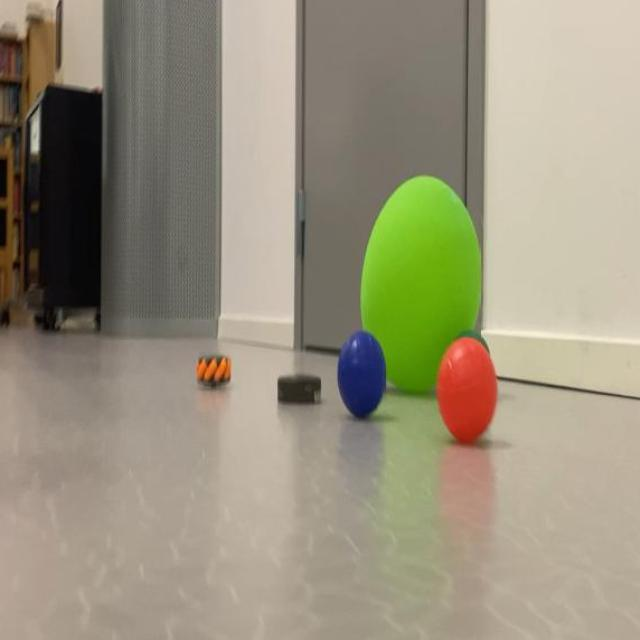blue ball: (346, 340, 383, 410)
green ball: (463, 332, 481, 337)
red ball: (443, 348, 492, 437)
